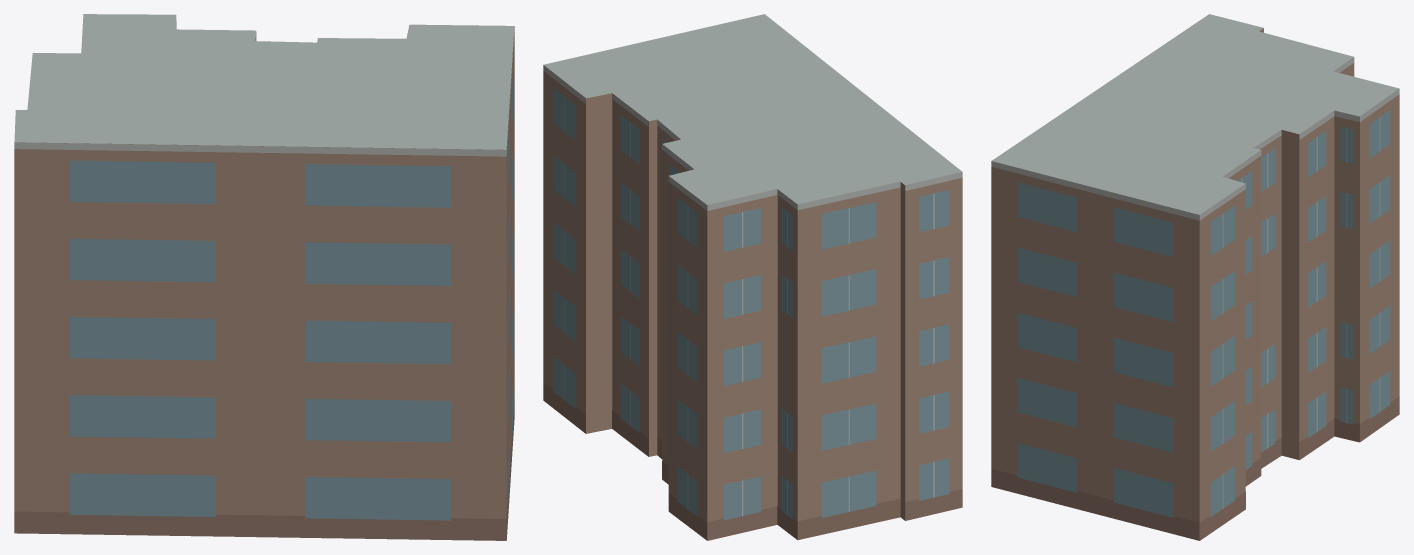
The model's file is survey-upis-32721040.glb.
The picture shows the model from 3 angles, left to right: view 1: azimuth 30°, elevation 25°; view 2: azimuth 150°, elevation 25°; view 3: azimuth 270°, elevation 25°; orthographic projection. The views are drawn at different scales.
Visible parts, largest first — view 1: survey-upis-32721040.tmp; view 2: survey-upis-32721040.tmp; view 3: survey-upis-32721040.tmp.
Boxes of the visible parts, x1,y1,x2,y2 form: survey-upis-32721040.tmp: [14, 14, 514, 540]; survey-upis-32721040.tmp: [543, 14, 962, 540]; survey-upis-32721040.tmp: [991, 14, 1399, 540].
Bounding box in the file's own units: 18.66 × 14.1 × 16.02.
